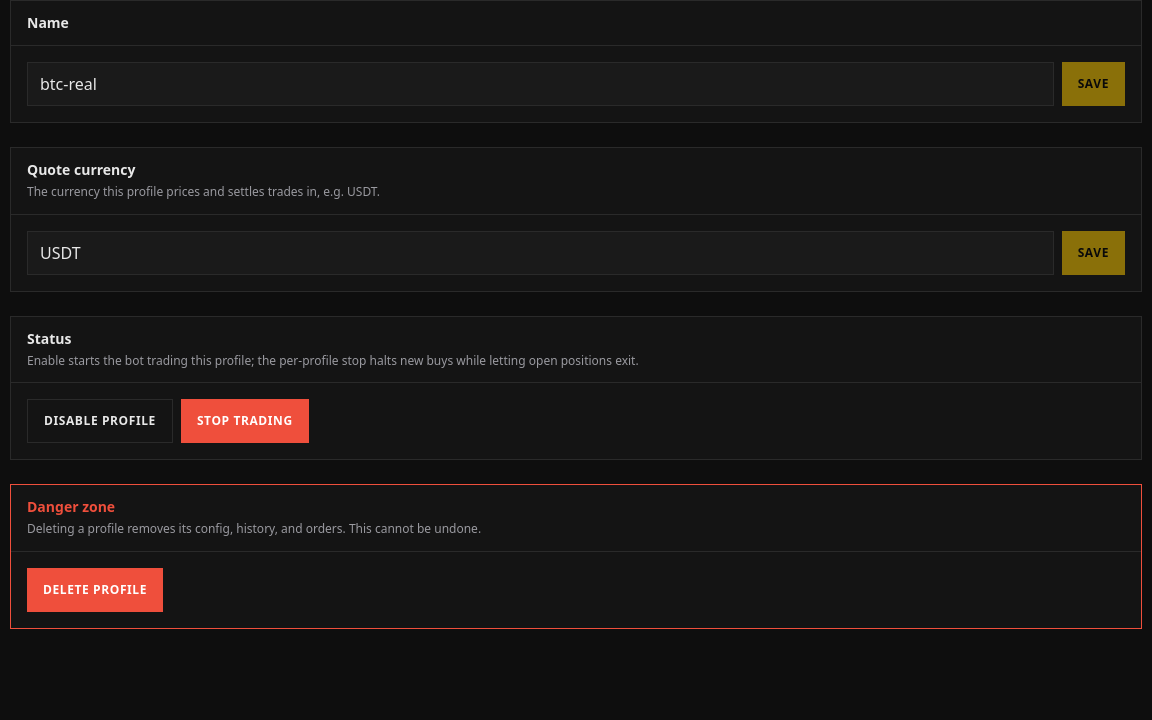
Test: <ProfileGeneralPanel> › keeps the dispose button disabled on handoff until a target is picked
Step 1. Click the button with test id "profile-general-delete" → (95, 590), box [27, 568, 163, 612]
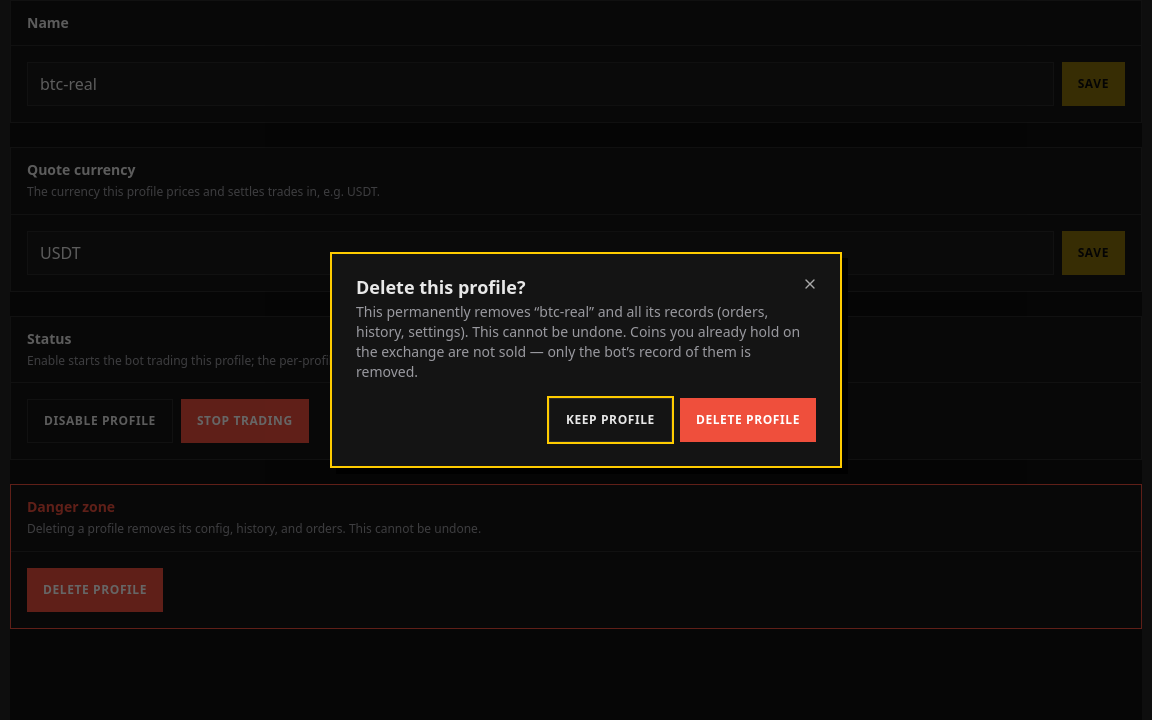
Step 2. Click the button with test id "profile-general-delete-confirm" → (748, 420), box [680, 398, 816, 442]
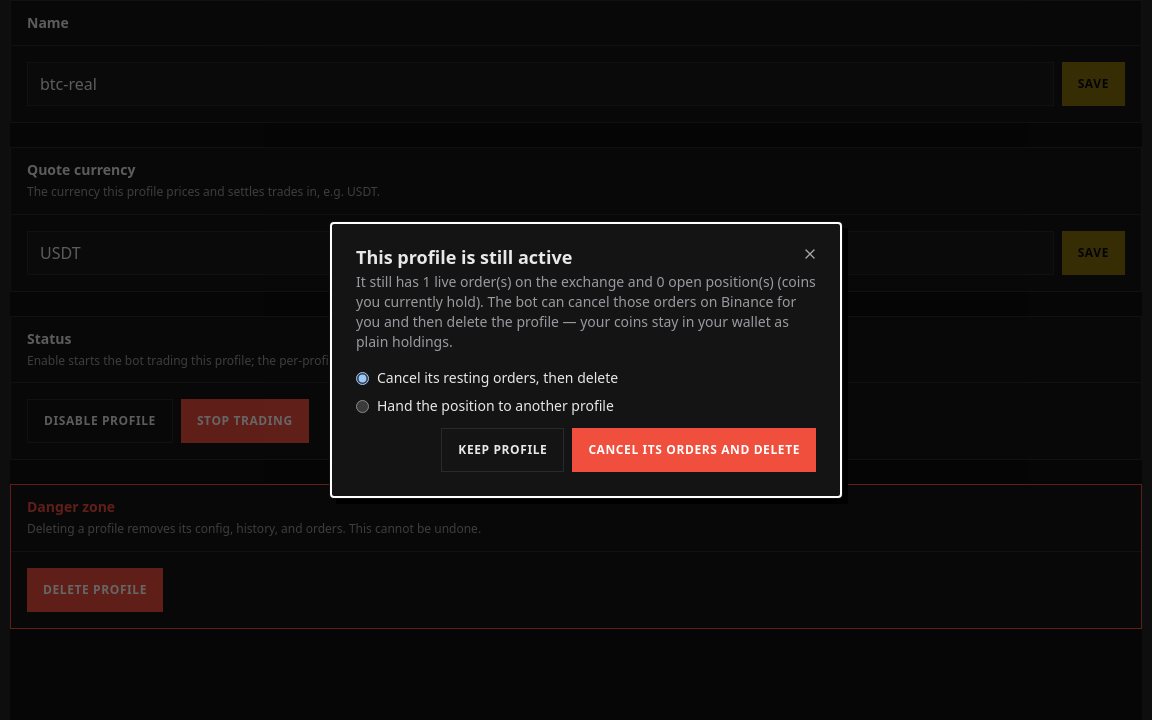
Step 3. Click the radio button with test id "profile-general-delete-disposition-handoff" → (362, 406), box [356, 400, 369, 413]
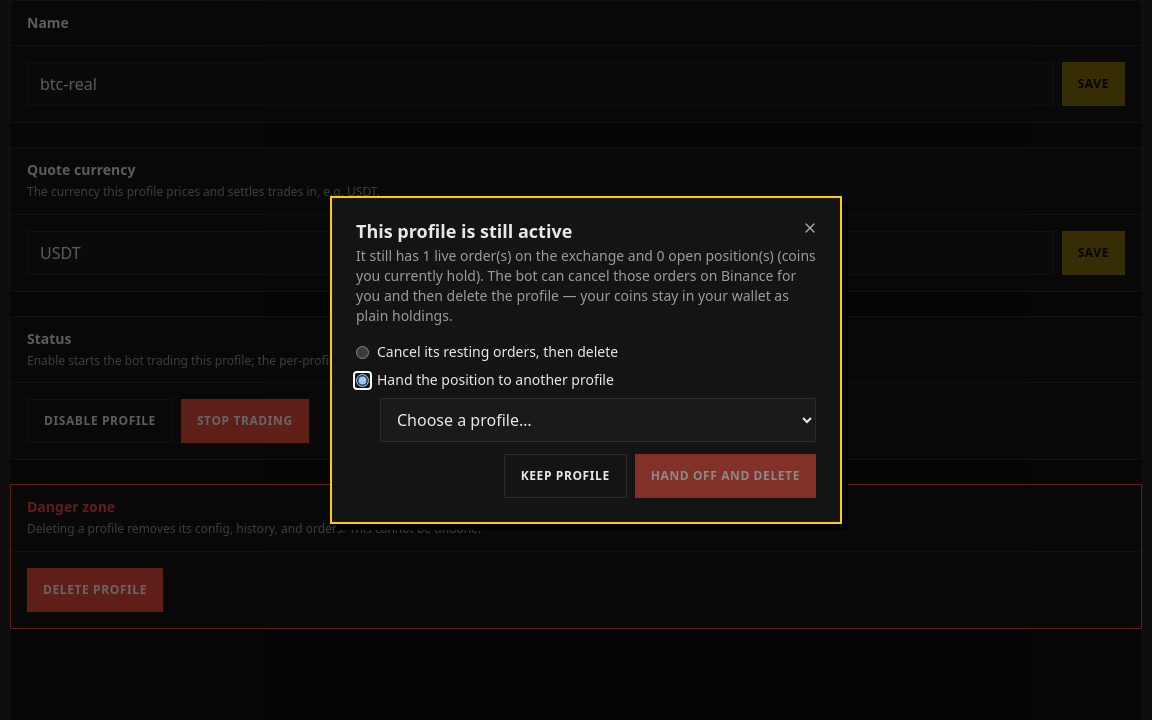
Now the button with test id "profile-general-delete-dispose" is disabled, box [635, 454, 816, 498]
Step 4. Select "eth-real" in the dropdown with test id "profile-general-delete-handoff-target" → (598, 420), box [380, 398, 816, 442]
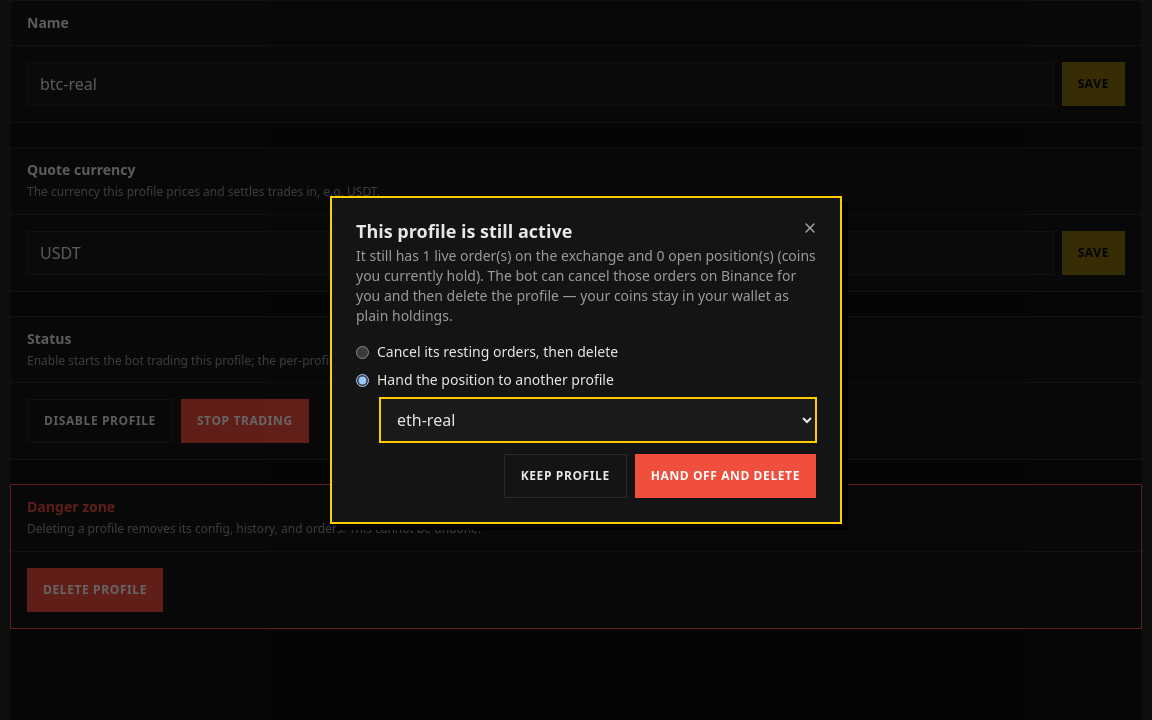
Now the button with test id "profile-general-delete-dispose" is enabled, box [635, 454, 816, 498]
